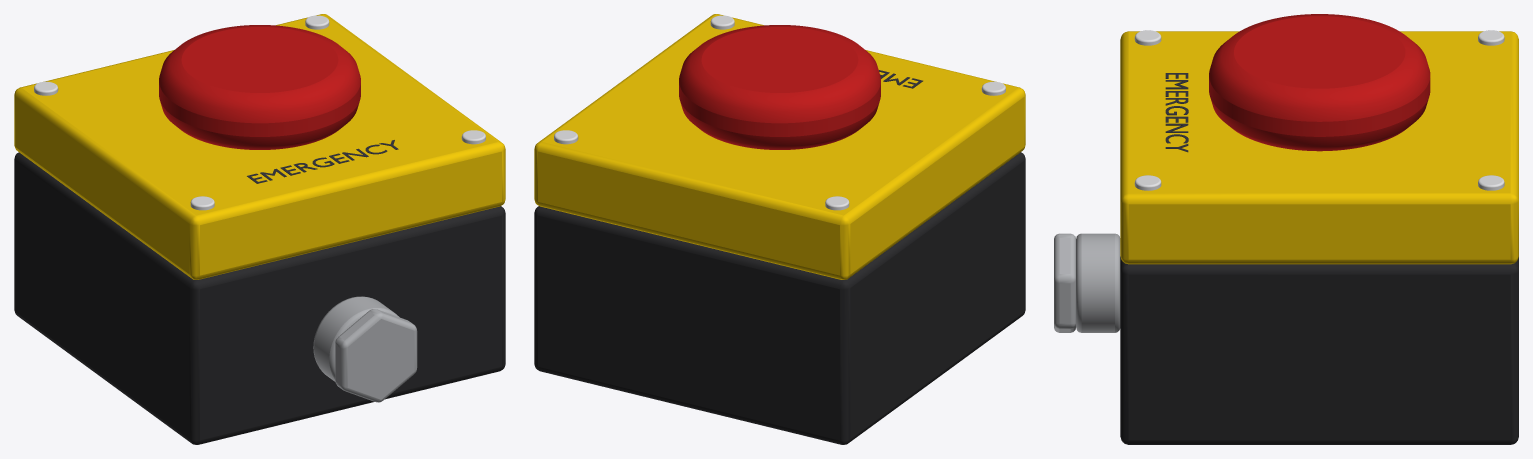
File: estop_box.glb
3 views of the same model, side by side, from view 1: azimuth 30°, elevation 25°; view 2: azimuth 150°, elevation 25°; view 3: azimuth 270°, elevation 25° (orthographic). The views are drawn at different scales.
Visible parts, largest first — view 1: cover, body, gland, screws; view 2: cover, body, screws; view 3: cover, body, gland, screws.
Boxes of the visible parts, left/top/right/bottom form: cover: left=14, top=14, right=505, bottom=279; body: left=14, top=152, right=505, bottom=444; gland: left=313, top=296, right=417, bottom=402; screws: left=34, top=15, right=485, bottom=210; cover: left=534, top=14, right=1025, bottom=279; body: left=534, top=152, right=1025, bottom=444; screws: left=554, top=15, right=1005, bottom=210; cover: left=1120, top=14, right=1518, bottom=264; body: left=1120, top=256, right=1518, bottom=444; gland: left=1054, top=233, right=1120, bottom=332; screws: left=1134, top=30, right=1504, bottom=190.
Bounding box in the file's own units: 0.072 × 0.062 × 0.084.
